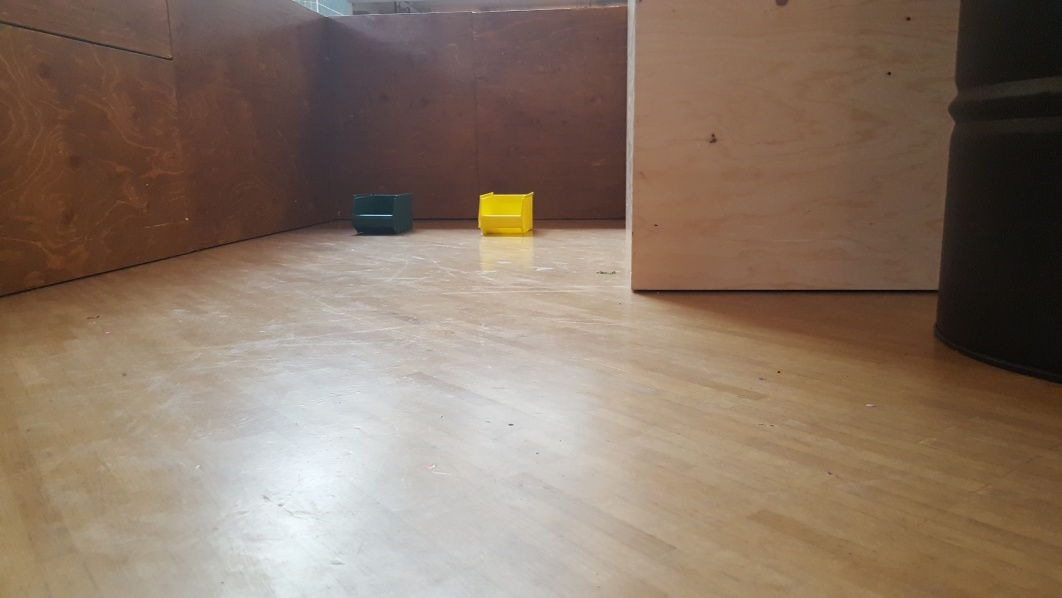tray: (478, 186, 540, 239), (353, 188, 415, 239)
